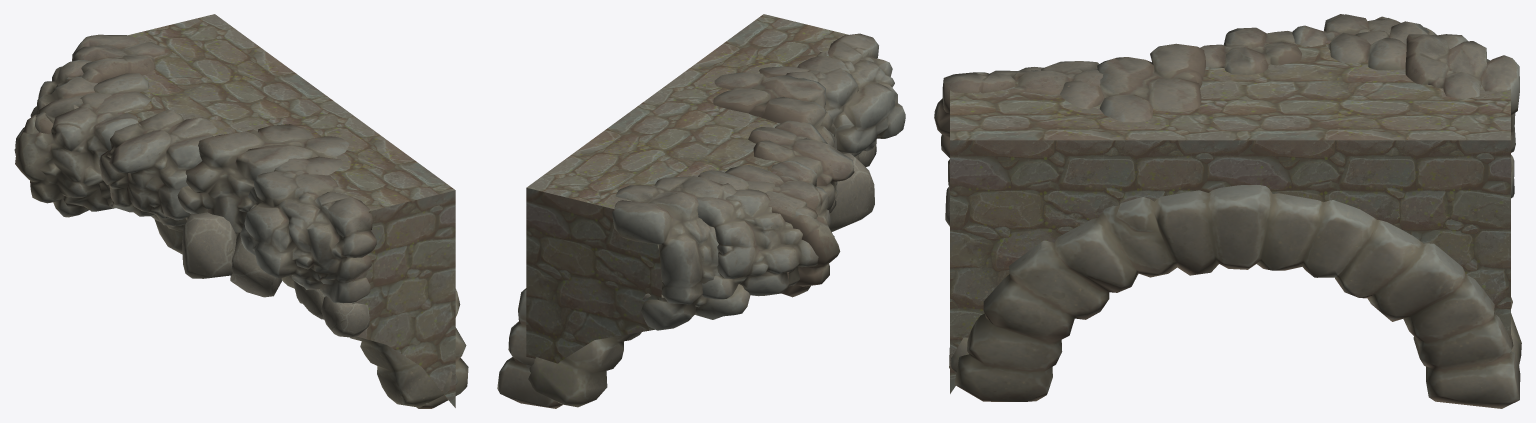
Rendered from SM_FW01_Ruins_Int_Ceiling_A_4x4_Brkn_03.fbx.
The picture shows the model from 3 angles, left to right: view 1: azimuth 30°, elevation 25°; view 2: azimuth 150°, elevation 25°; view 3: azimuth 270°, elevation 25°; orthographic projection. The views are drawn at different scales.
Visible parts, largest first — view 1: SM_FW01_Ruins_Int_Ceiling_A_4x4_Brkn_03_LOD0, SM_FW01_Ruins_Int_Ceiling_A_4x4_Brkn_03; view 2: SM_FW01_Ruins_Int_Ceiling_A_4x4_Brkn_03_LOD0, SM_FW01_Ruins_Int_Ceiling_A_4x4_Brkn_03; view 3: SM_FW01_Ruins_Int_Ceiling_A_4x4_Brkn_03, SM_FW01_Ruins_Int_Ceiling_A_4x4_Brkn_03_LOD0.
Part boxes in pixels (box(x1,y1,x2,y2)): SM_FW01_Ruins_Int_Ceiling_A_4x4_Brkn_03_LOD0: box(14, 34, 468, 408); SM_FW01_Ruins_Int_Ceiling_A_4x4_Brkn_03: box(117, 14, 455, 407); SM_FW01_Ruins_Int_Ceiling_A_4x4_Brkn_03_LOD0: box(497, 33, 905, 408); SM_FW01_Ruins_Int_Ceiling_A_4x4_Brkn_03: box(526, 14, 848, 368); SM_FW01_Ruins_Int_Ceiling_A_4x4_Brkn_03: box(950, 40, 1510, 393); SM_FW01_Ruins_Int_Ceiling_A_4x4_Brkn_03_LOD0: box(934, 14, 1521, 408).
Size of what is drawn, in the model's own units: 2.72 by 2.16 by 4.19.
